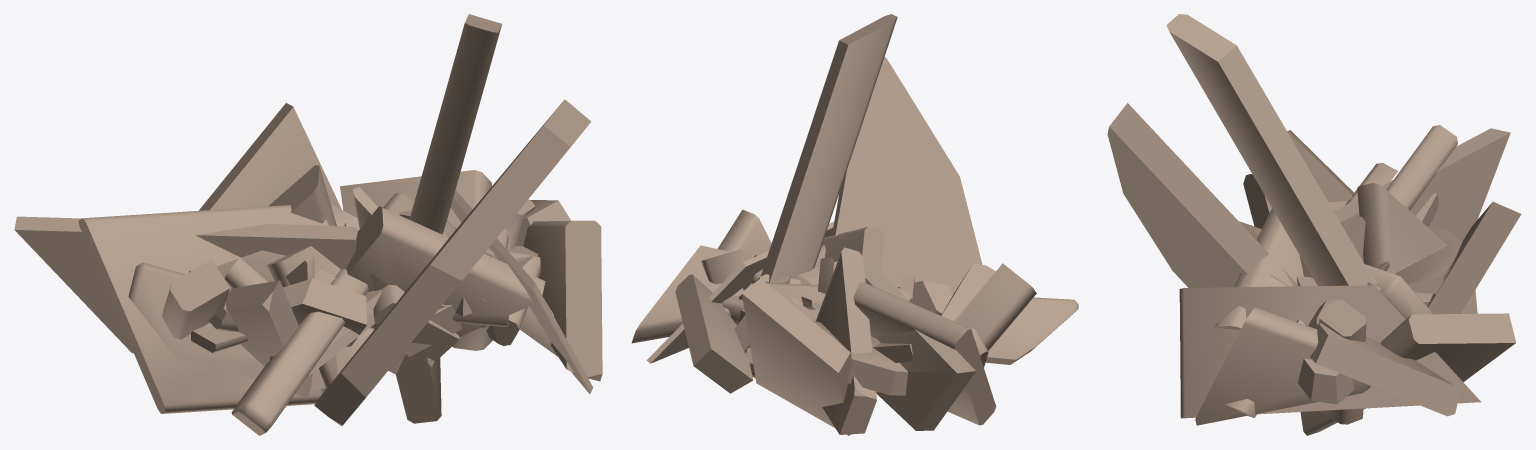
File: Rubble2.fbx
The picture shows the model from 3 angles, left to right: view 1: azimuth 30°, elevation 25°; view 2: azimuth 150°, elevation 25°; view 3: azimuth 270°, elevation 25°; orthographic projection. The views are drawn at different scales.
Parts seen in each view (by area): view 1: Right_Wall_cell.001; view 2: Right_Wall_cell.001; view 3: Right_Wall_cell.001.
Part boxes in pixels (<box>): Right_Wall_cell.001: <box>14,14,602,435</box>; Right_Wall_cell.001: <box>631,14,1078,435</box>; Right_Wall_cell.001: <box>1107,14,1521,435</box>.
Size of the model in its own units: 944 by 882 by 811.
